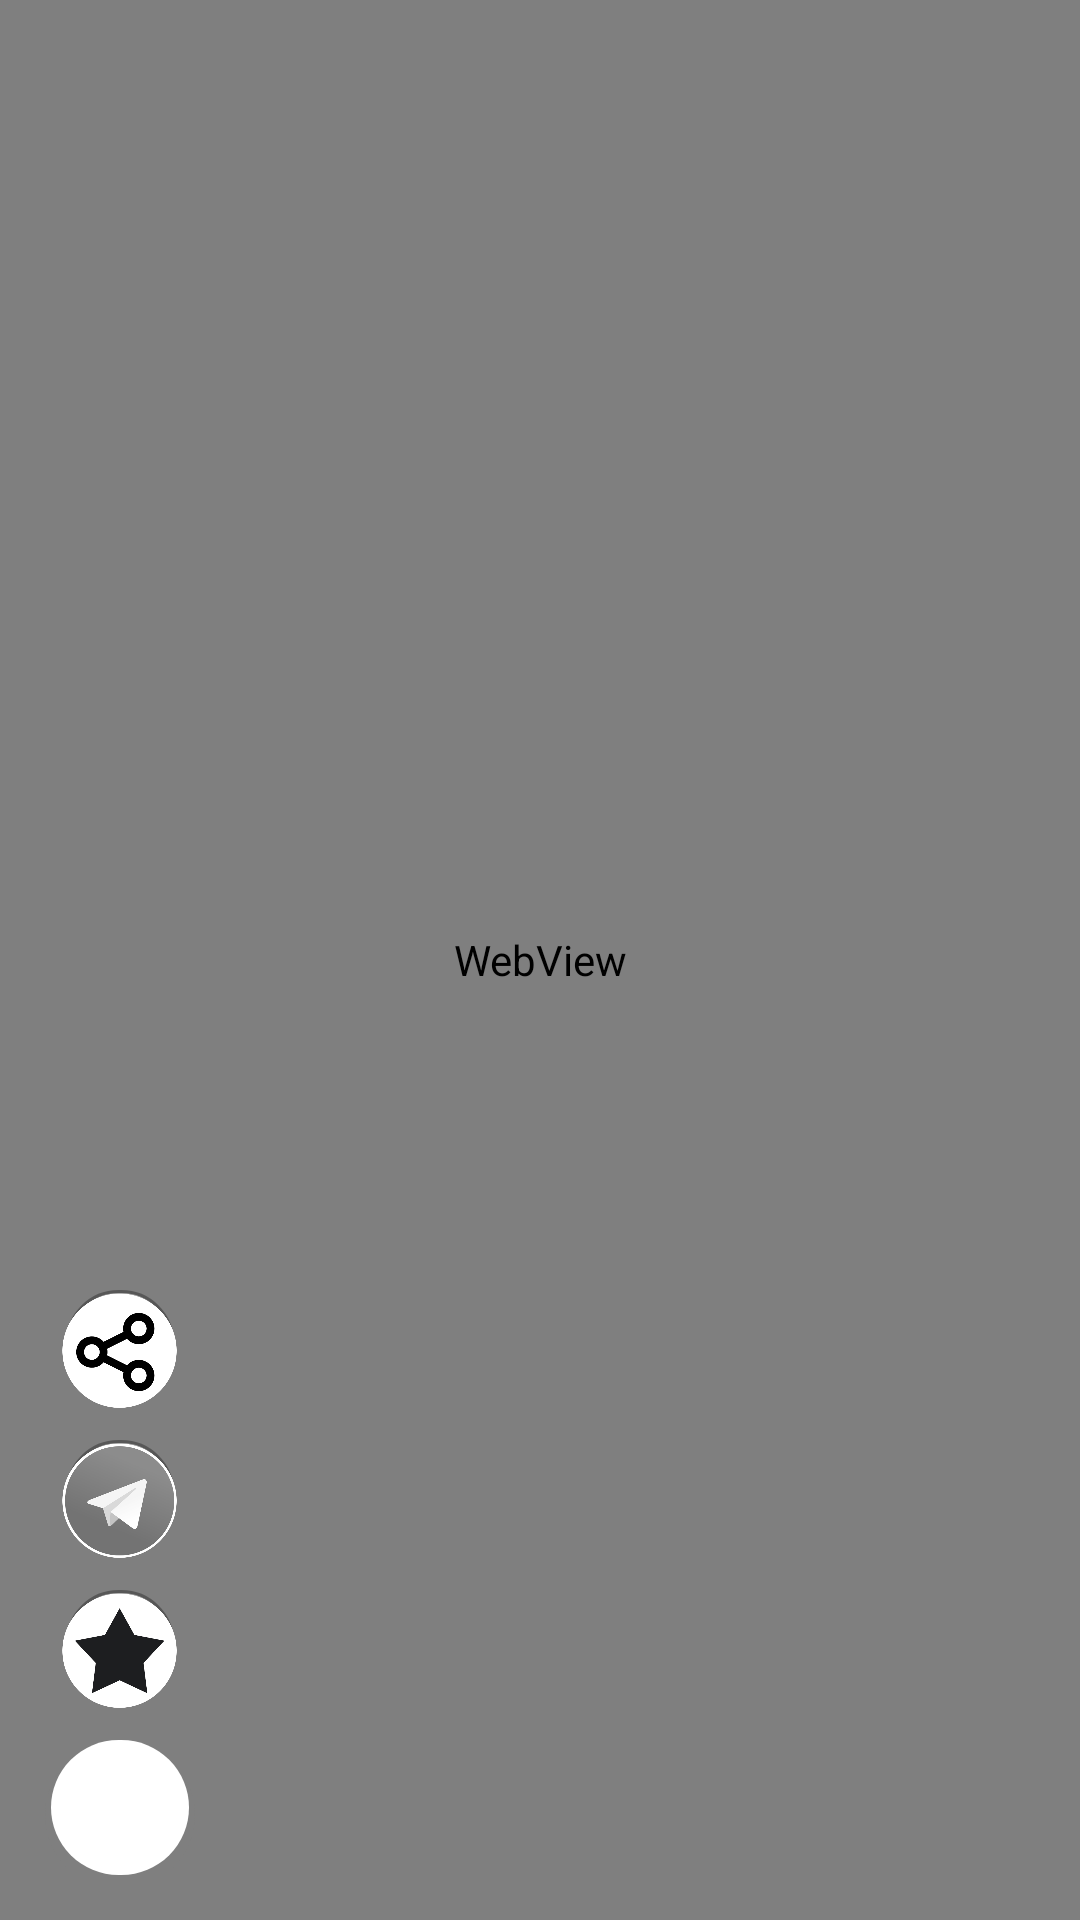

Icons on this 1080x1920 Android screen, each with its box as (x1,y1,x2,y2):
fav: (62,1590,177,1708)
share: (62,1290,177,1408)
